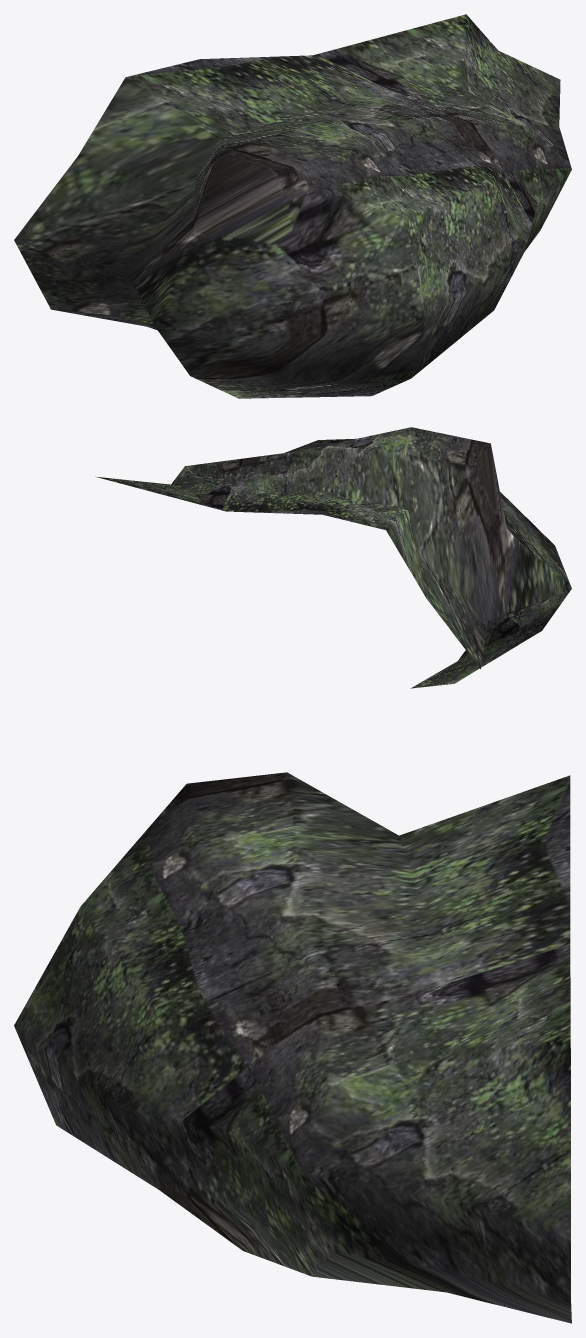
3 renders of one model, top to bottom at view 1: azimuth 30°, elevation 25°; view 2: azimuth 150°, elevation 25°; view 3: azimuth 270°, elevation 25°, orthographic. The views are drawn at different scales.
Visible parts, largest first — view 1: model_Object27; view 2: model_Object27; view 3: model_Object27.
Boxes of the visible parts, <box> form: model_Object27: <box>14,14,571,398</box>; model_Object27: <box>95,427,571,688</box>; model_Object27: <box>14,772,571,1323</box>.
Bounding box in the file's own units: 6.25 × 2.78 × 3.88.
Materials: 1 (1 with a texture image).
